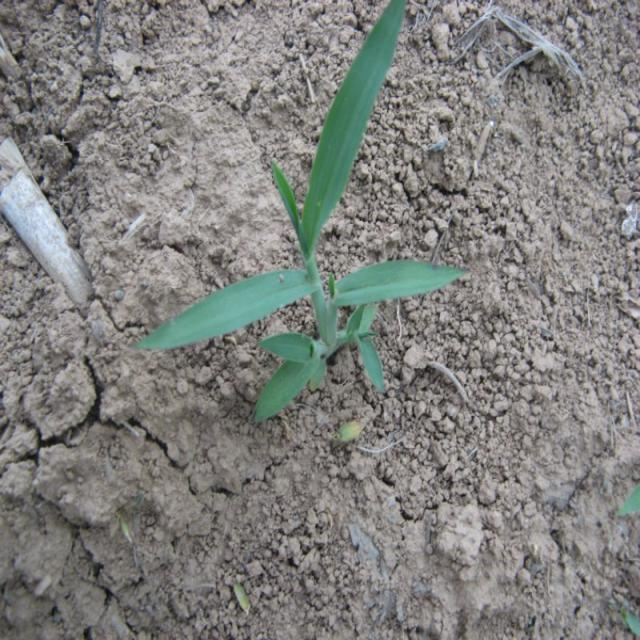bg: (134, 0, 474, 415)
